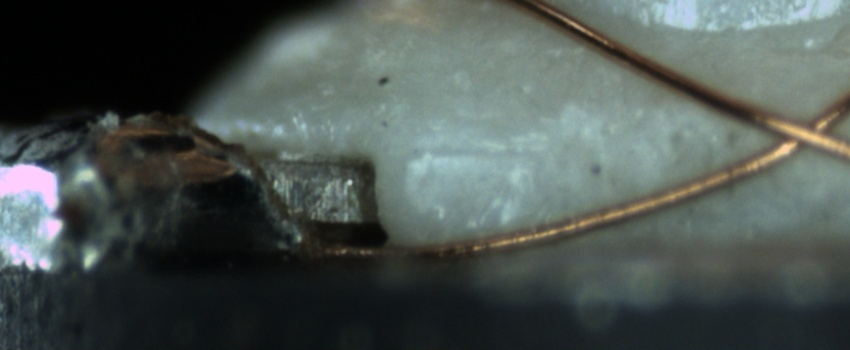CL: (744, 92, 847, 167)
DL: (404, 130, 538, 183)
